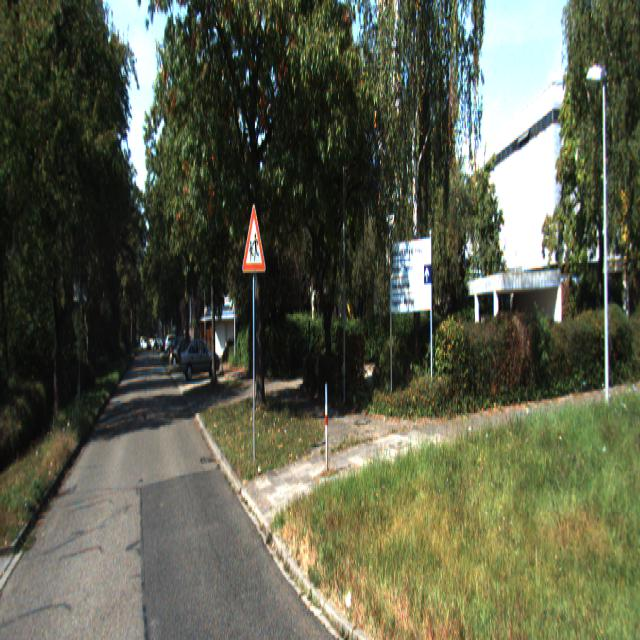Car: (181, 337, 222, 382)
